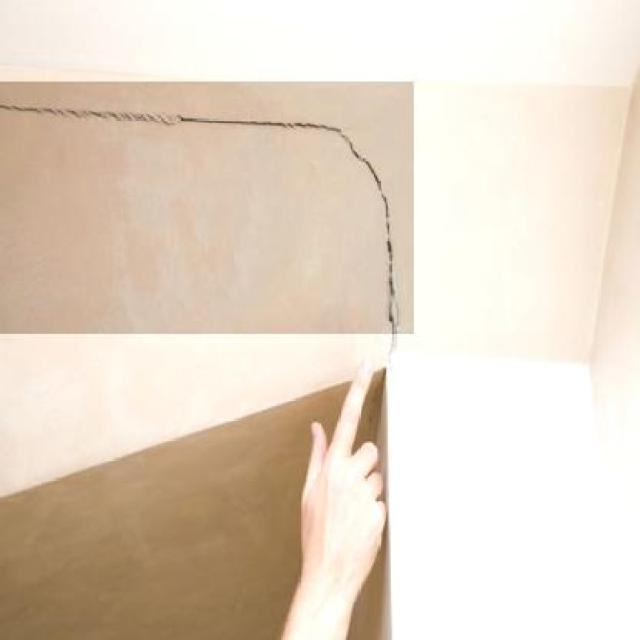Crack: (0, 71, 368, 163), (346, 165, 414, 373)
